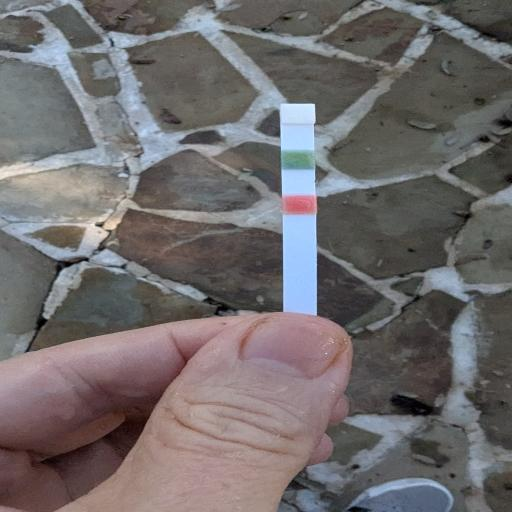strip: (280, 103, 318, 316)
